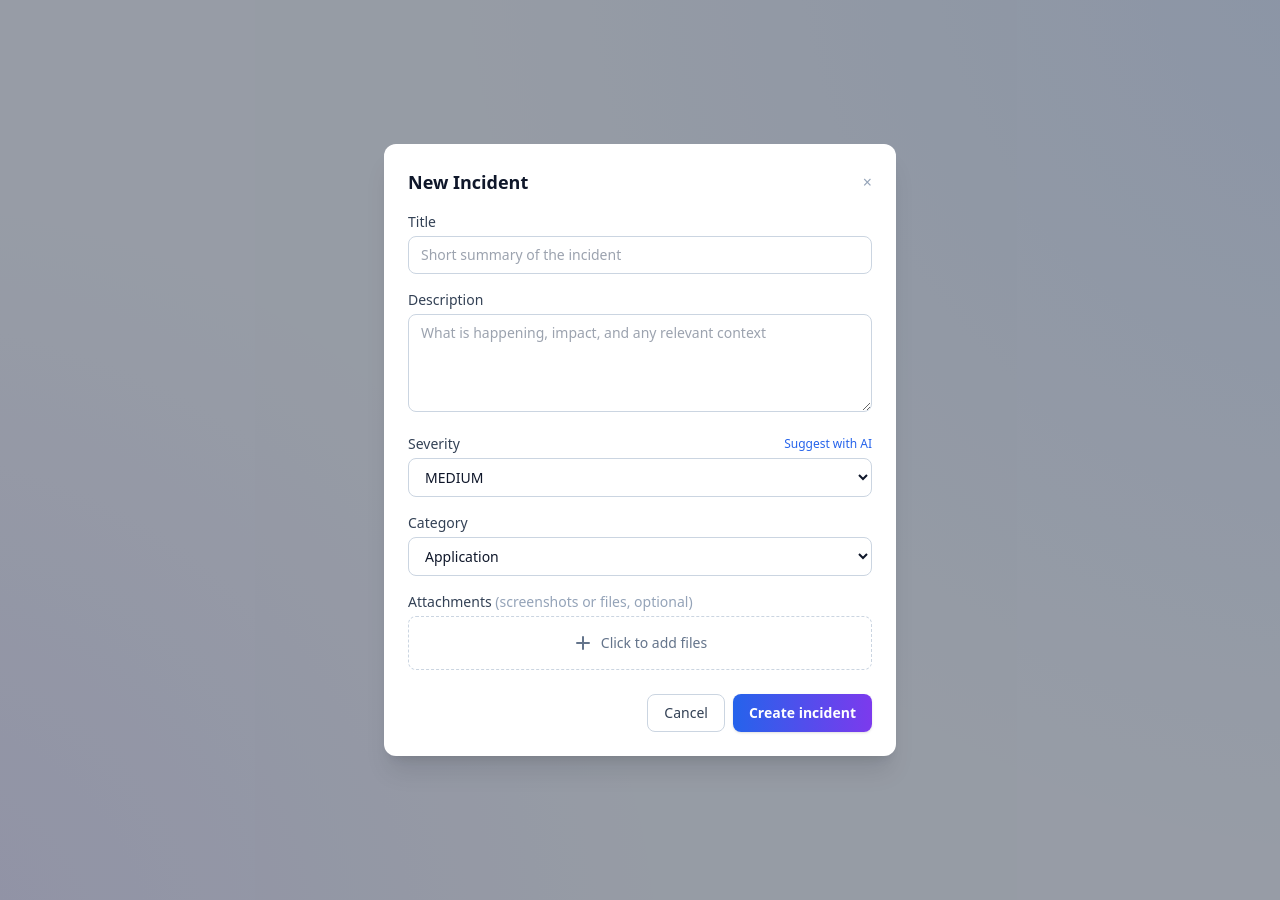
CreateIncidentModal › shows validation errors and does not submit when required fields are empty
Click the button "Create incident".
click(802, 713)  # box [733,694,872,732]
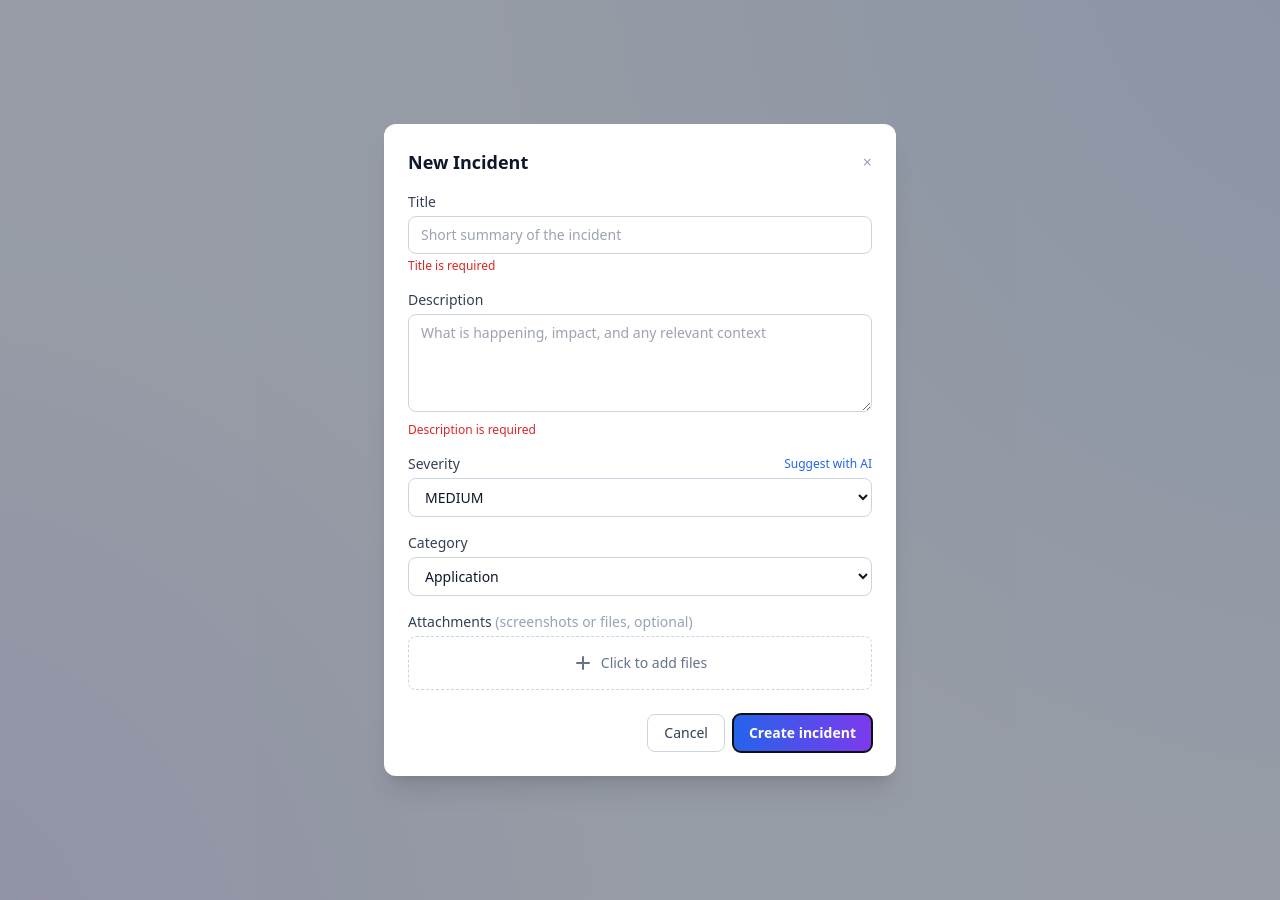
Expected: the text "Title is required" is shown, [408,257,495,274]
Expected: the text "Description is required" is shown, [408,421,536,438]
